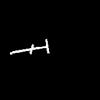double_crochet: (10, 39, 48, 53)
